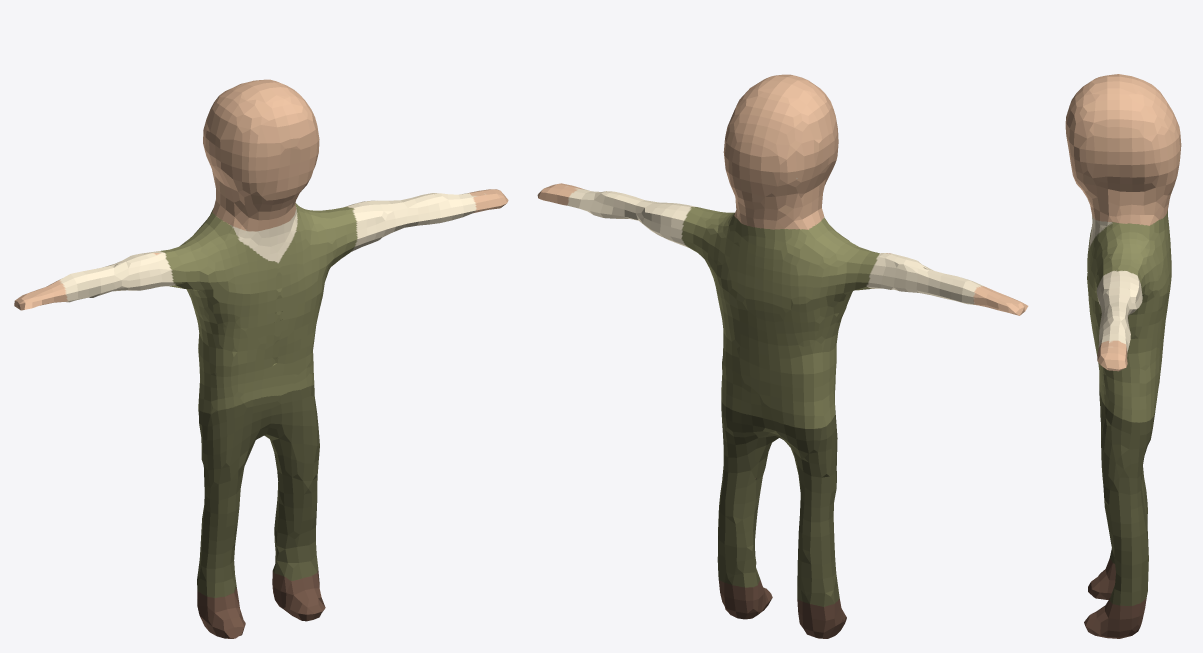
Rendered from man_0.fbx.
3 views of the same model, side by side, from view 1: azimuth 30°, elevation 25°; view 2: azimuth 150°, elevation 25°; view 3: azimuth 270°, elevation 25° (orthographic).
Parts seen in each view (by area): view 1: Man_; view 2: Man_; view 3: Man_.
Boxes of the visible parts, bbox=[...] form: Man_: bbox=[14, 79, 508, 638]; Man_: bbox=[537, 74, 1028, 638]; Man_: bbox=[1065, 74, 1181, 638].
Bounding box in the file's own units: 472 × 548 × 111.
1 material, 1 textured.
